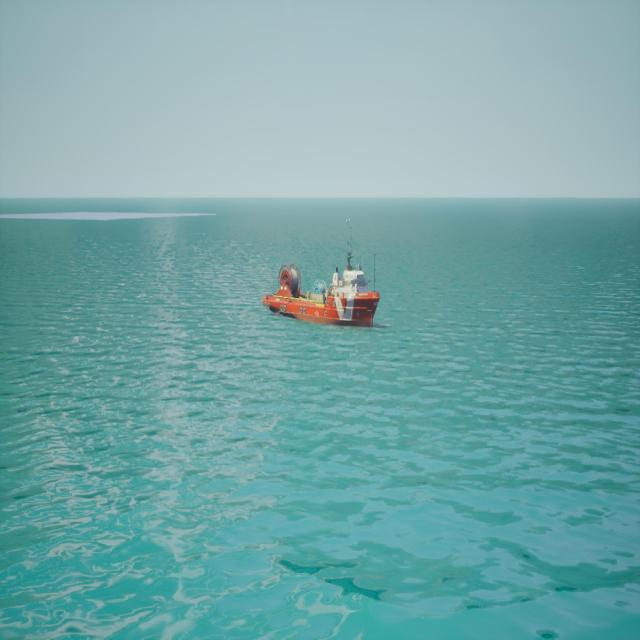tug boat: (264, 221, 382, 331)
